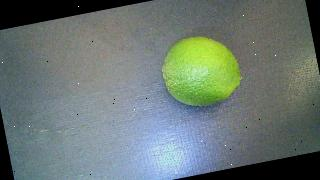EXPORTACION: (157, 29, 246, 112)
